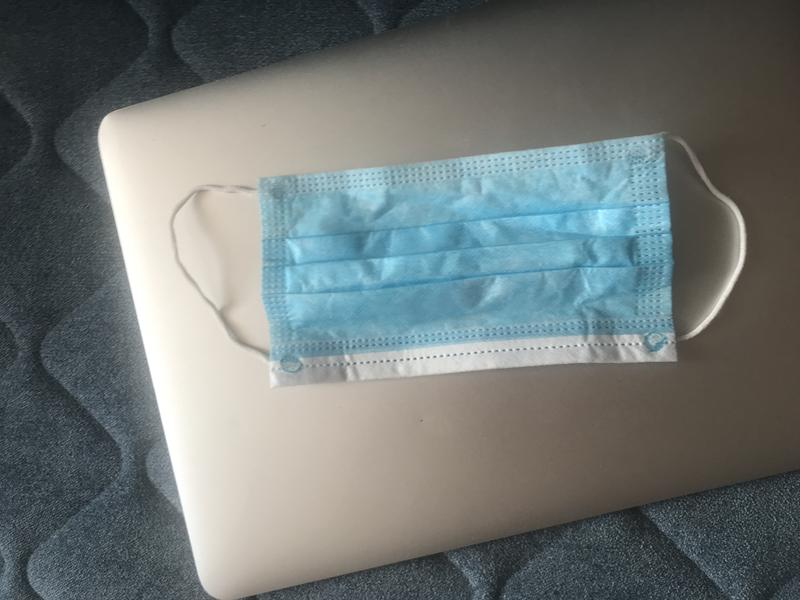medical_mask: (166, 135, 749, 388)
